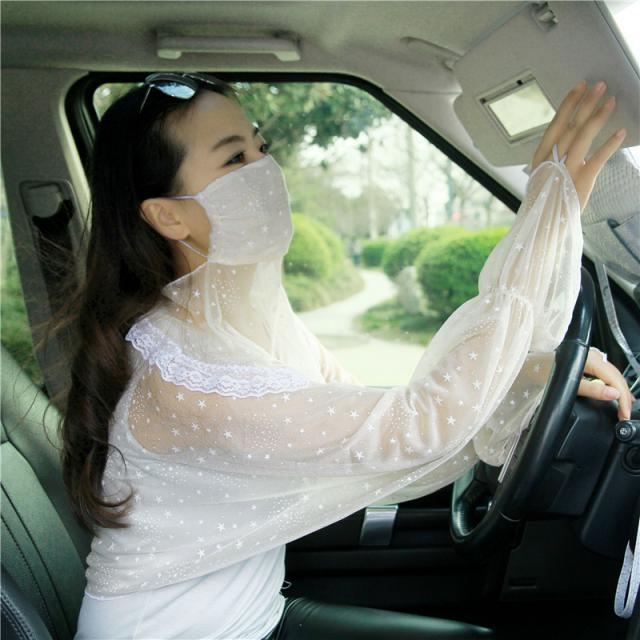mask: (173, 94, 294, 260)
